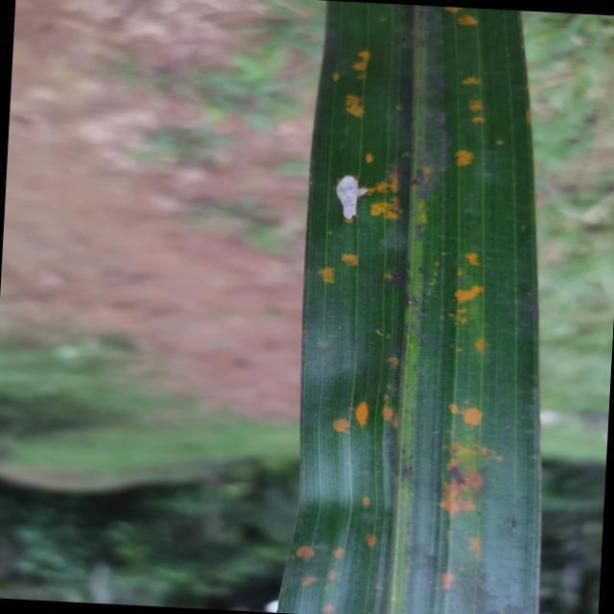Kalium: (280, 0, 545, 614)
